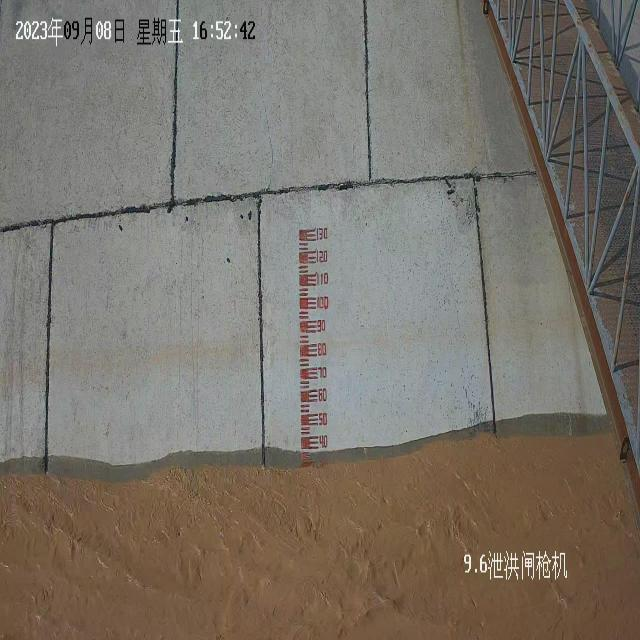ruler: (295, 220, 331, 457)
value: (315, 269, 330, 289), (314, 224, 328, 244), (315, 247, 329, 266), (316, 339, 329, 359), (316, 294, 330, 312), (317, 409, 329, 430), (317, 384, 329, 404), (316, 363, 329, 381), (316, 316, 327, 336), (318, 432, 329, 452)
